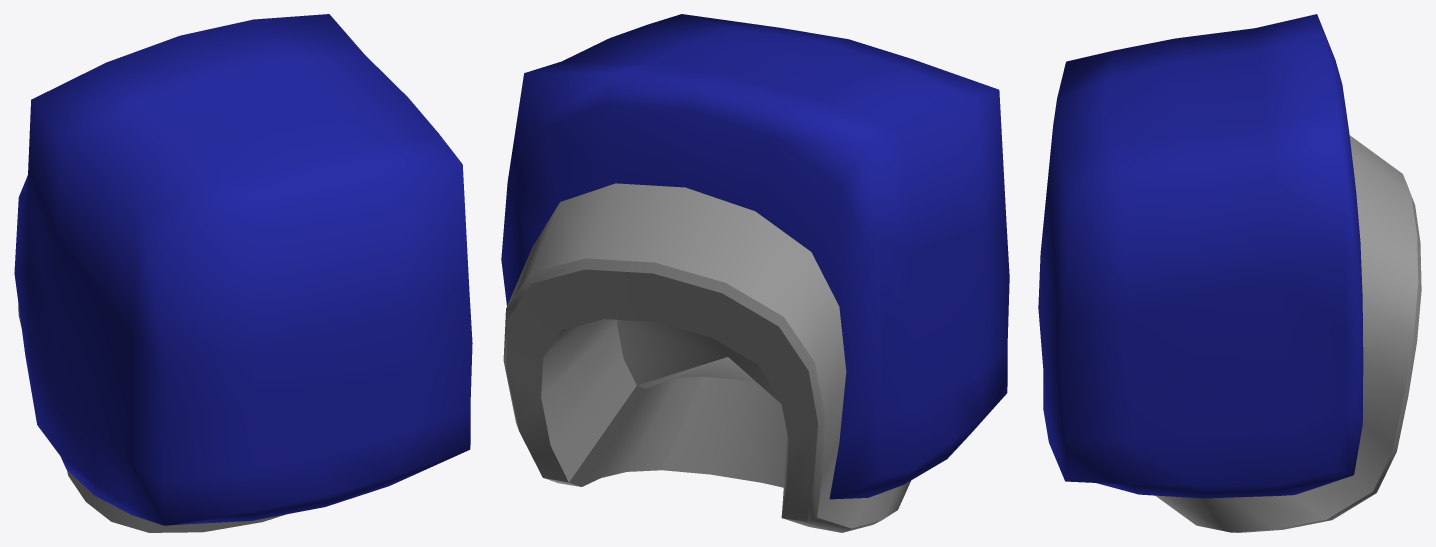
Rendered from Chonk_Shoulder2.FBX.
3 renders of one model, left to right at view 1: azimuth 30°, elevation 25°; view 2: azimuth 150°, elevation 25°; view 3: azimuth 270°, elevation 25°, orthographic. The views are drawn at different scales.
Parts seen in each view (by area): view 1: Object081; view 2: Object081; view 3: Object081.
Part boxes in pixels (bbox=[...]): Object081: bbox=[14, 14, 472, 532]; Object081: bbox=[501, 14, 1009, 532]; Object081: bbox=[1038, 14, 1421, 532].
Size of the model in its own units: 49.7 by 59.73 by 50.18.
